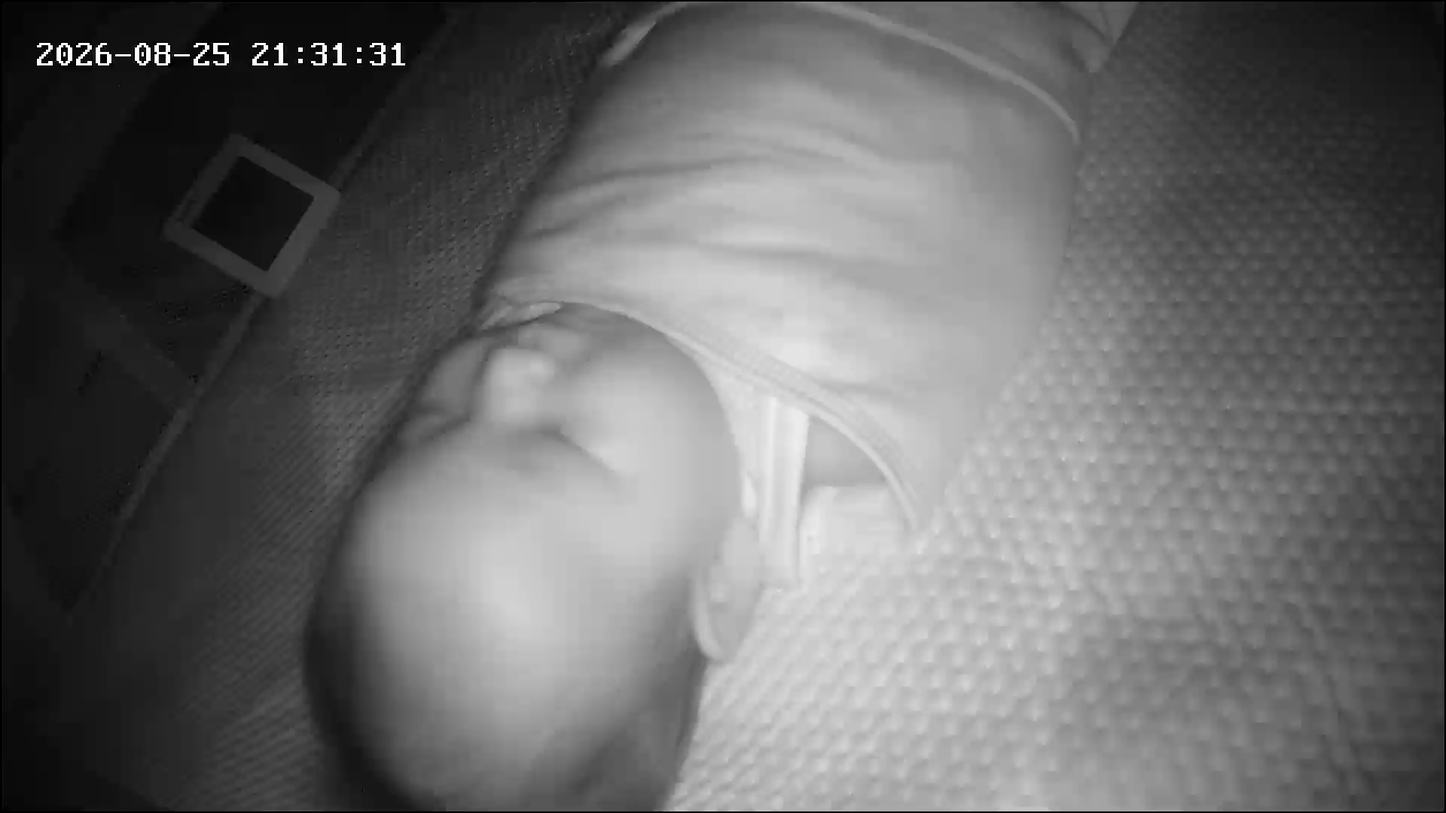baby: (293, 3, 1108, 809)
baby_face: (304, 295, 781, 812)
